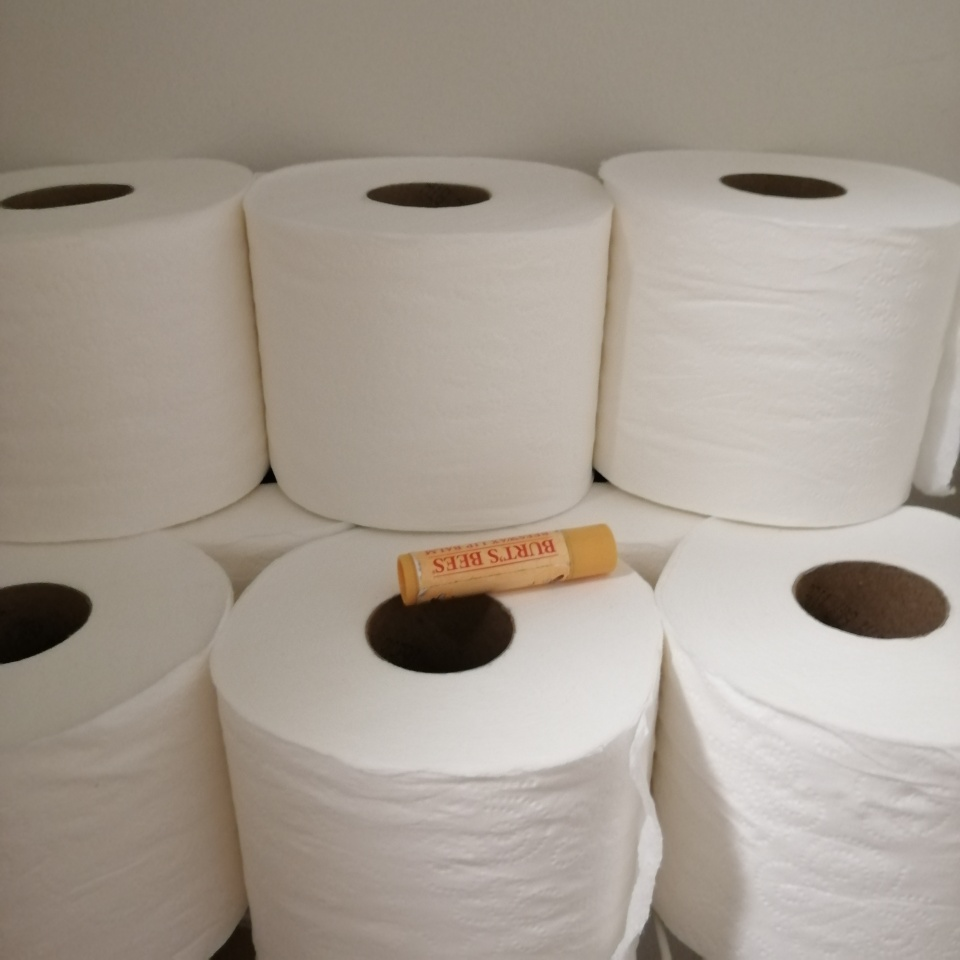chapstick: (397, 523, 618, 607)
